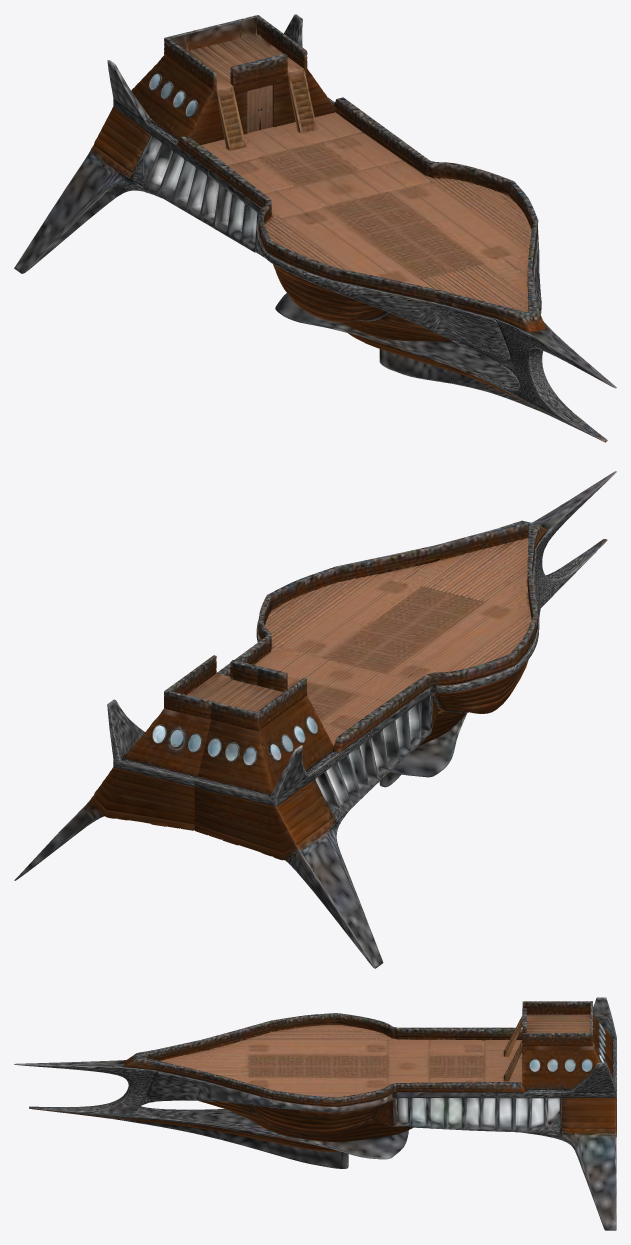
File: MZ4250 - Spelljammer Ship v2.glb
The picture shows the model from 3 angles, top to bottom: view 1: azimuth 30°, elevation 25°; view 2: azimuth 150°, elevation 25°; view 3: azimuth 270°, elevation 25°; orthographic projection. The views are drawn at different scales.
Visible parts, largest first — view 1: Spelljammer.001; view 2: Spelljammer.001; view 3: Spelljammer.001.
Boxes of the visible parts, x1,y1,x2,y2 form: Spelljammer.001: [14, 14, 616, 442]; Spelljammer.001: [14, 471, 616, 968]; Spelljammer.001: [14, 997, 616, 1230].
Bounding box in the file's own units: 809 × 449 × 1634.
Materials: 1 (1 with a texture image).
